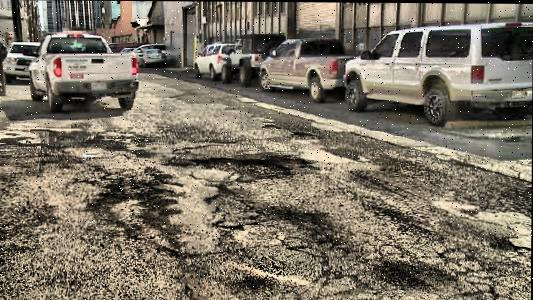pothole: (191, 153, 289, 176), (285, 155, 313, 170), (26, 124, 60, 134)
